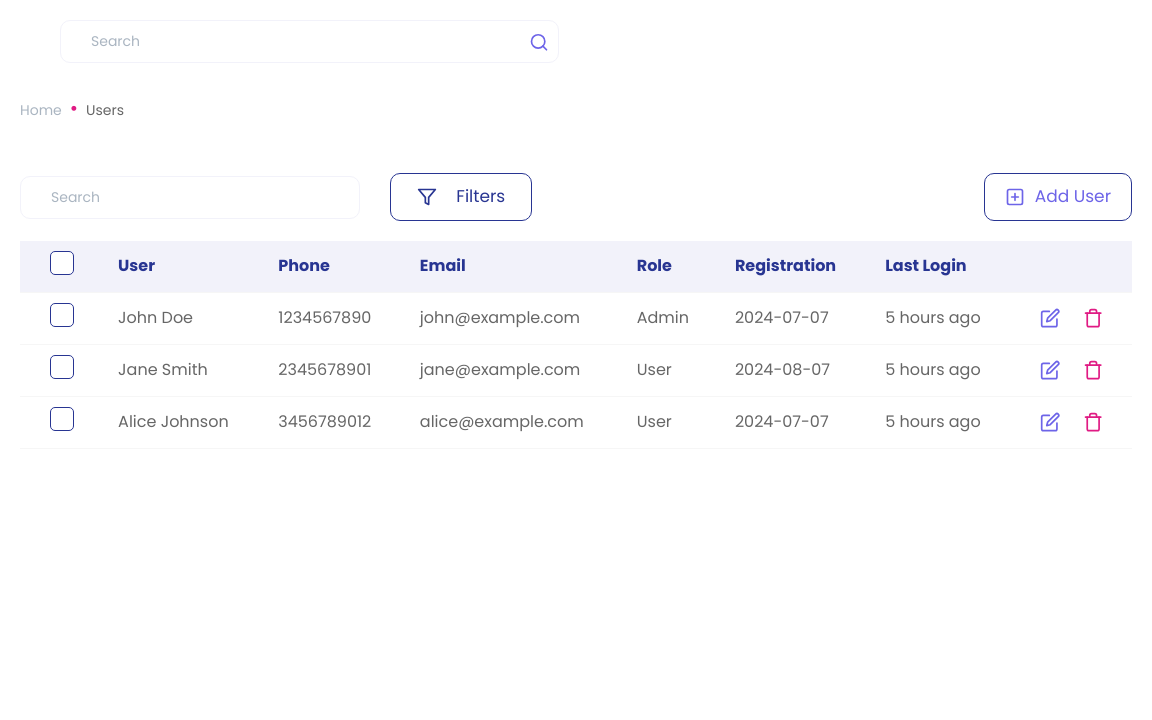
Test: UsersPage Component › should toggle the filter section
Click the button "Filters". click: (461, 197)
box: [390, 173, 532, 220]
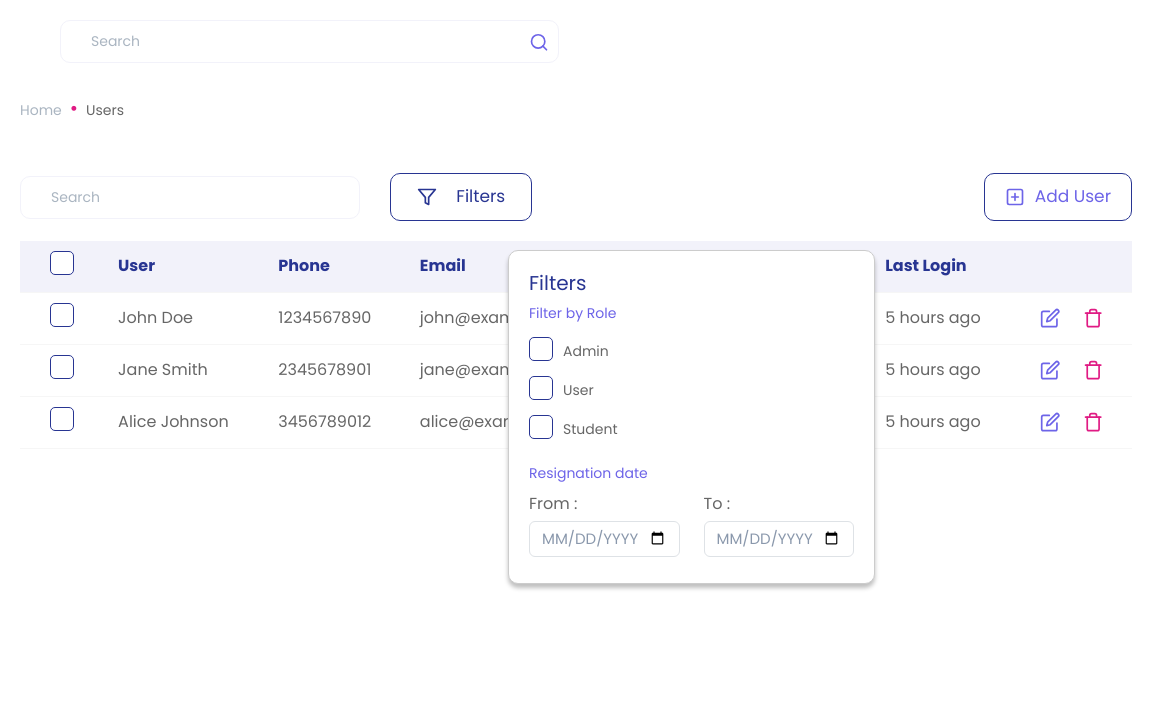
Expected: the heading "Filter by Role" is shown, [529, 303, 616, 323]
Click the button "Filters". click: (461, 197)
box: [390, 173, 532, 220]
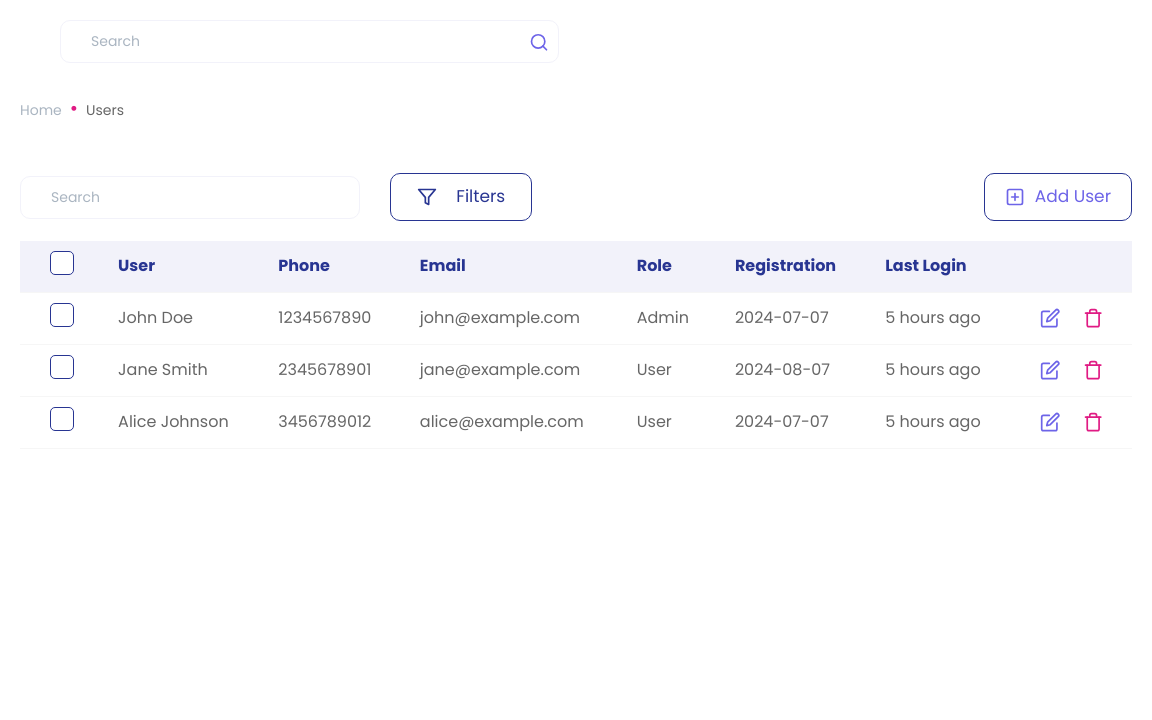
Expected: the heading "Filter by Role" is gone
